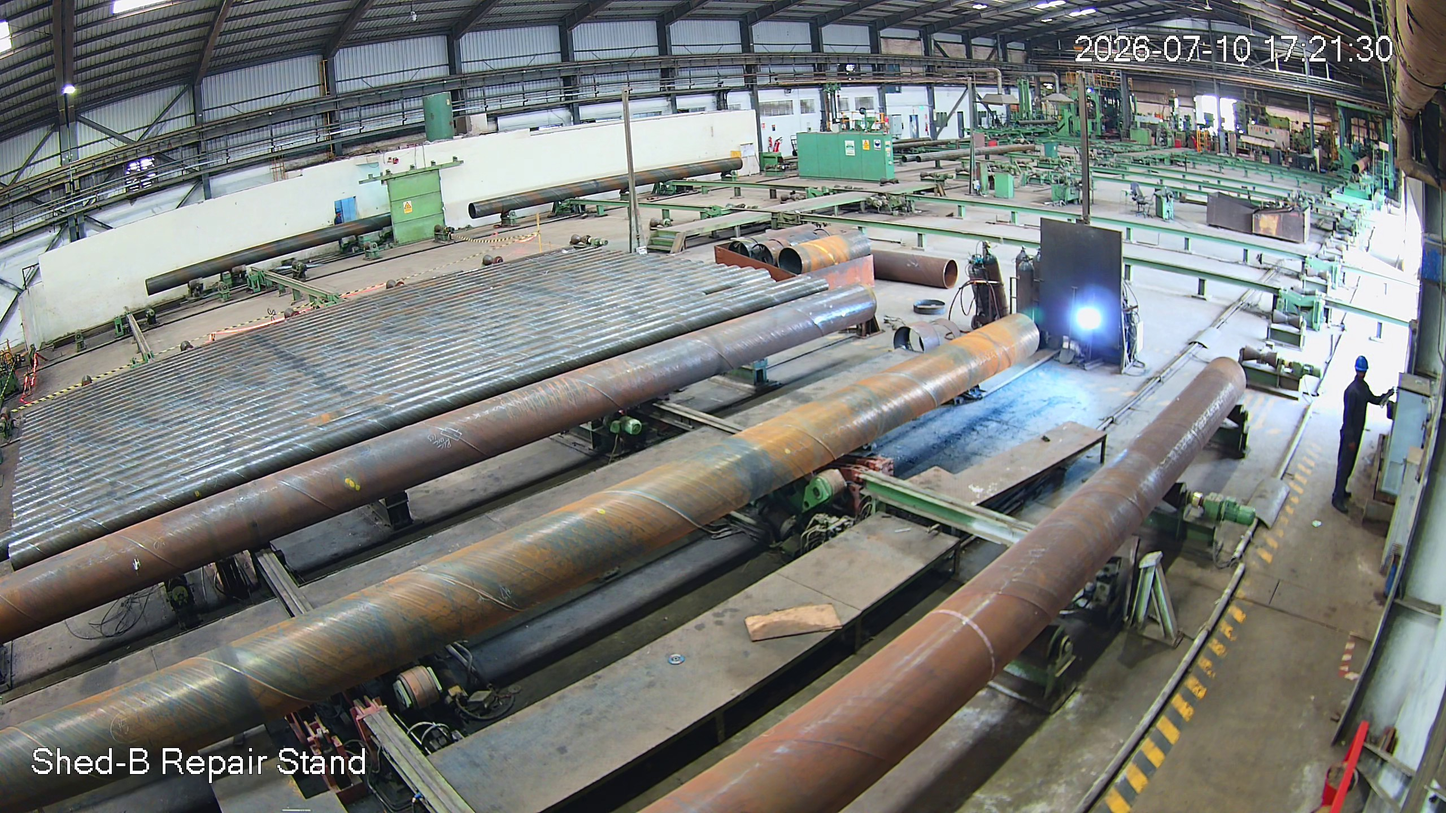Helmet: (1350, 352, 1392, 388)
Person: (1330, 355, 1380, 520)
